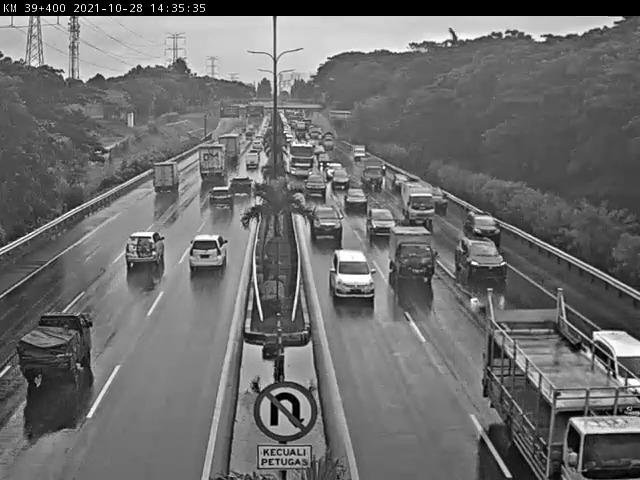big truck: (196, 145, 228, 184), (287, 140, 316, 176), (219, 134, 243, 166)
car: (20, 312, 95, 392), (590, 317, 640, 388), (390, 231, 433, 281), (455, 235, 506, 275), (332, 249, 373, 295), (189, 231, 231, 272), (124, 231, 168, 269), (310, 205, 342, 239), (465, 212, 499, 240), (364, 203, 391, 230), (206, 187, 236, 211), (343, 187, 367, 209), (229, 176, 252, 198), (302, 174, 327, 194), (432, 189, 448, 209), (244, 152, 261, 170), (331, 172, 348, 190), (325, 162, 340, 173), (252, 141, 264, 152)
small truck: (482, 295, 640, 480), (400, 183, 433, 225), (153, 162, 182, 190), (361, 159, 385, 189)
